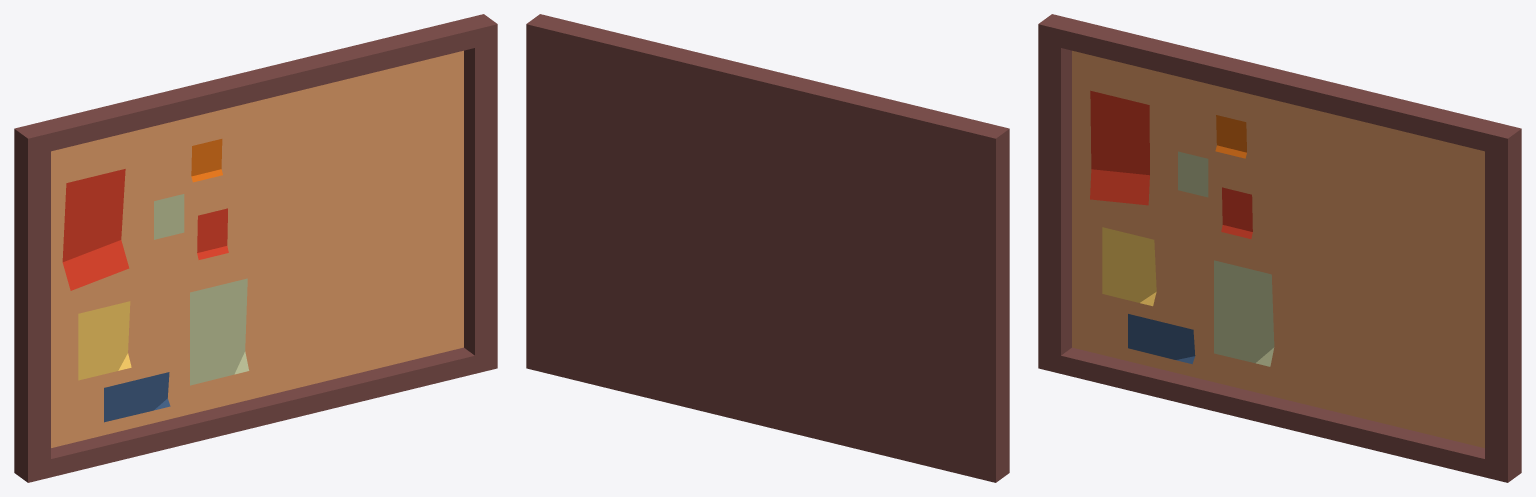
File: quadro-anotações.fbx
3 views of the same model, side by side, from view 1: azimuth 30°, elevation 25°; view 2: azimuth 150°, elevation 25°; view 3: azimuth 330°, elevation 25° (orthographic).
Visible parts, largest first — view 1: Cube.014; view 2: Cube.014; view 3: Cube.014.
Part boxes in pixels (x1,y1,x2,y2): Cube.014: [14, 14, 497, 482]; Cube.014: [526, 14, 1009, 482]; Cube.014: [1038, 14, 1521, 482].
Bounding box in the file's own units: 2.69 × 1.88 × 0.1378.
